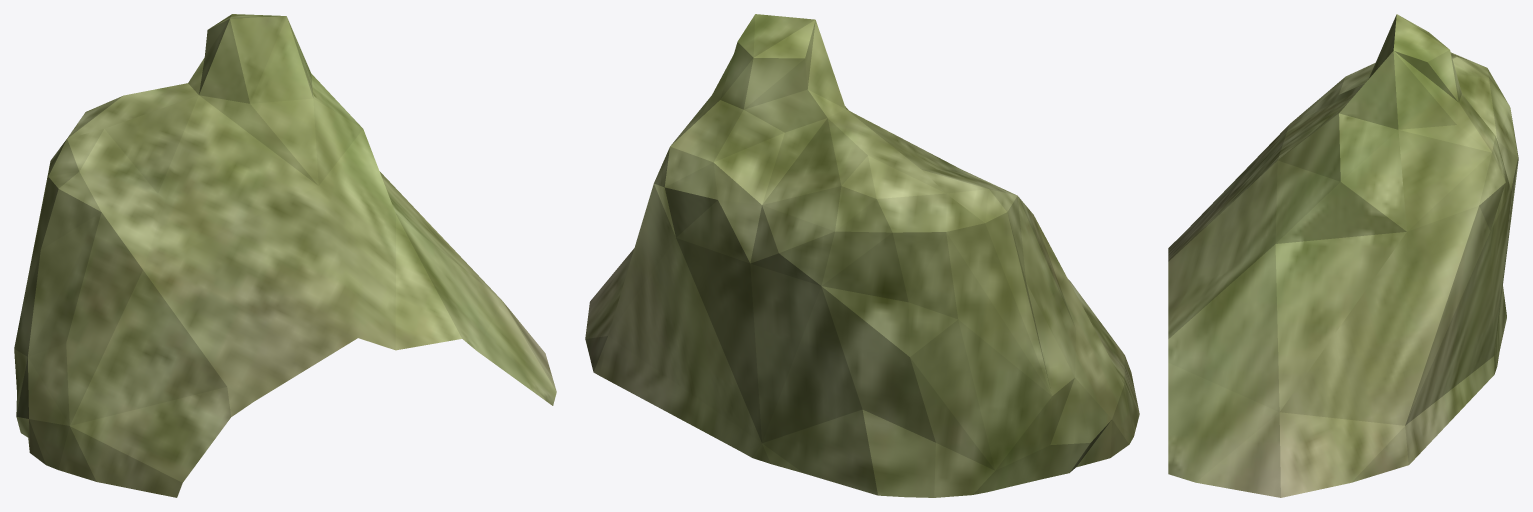
3 views of the same model, side by side, from view 1: azimuth 30°, elevation 25°; view 2: azimuth 150°, elevation 25°; view 3: azimuth 270°, elevation 25° (orthographic). The views are drawn at different scales.
Bounding box in the file's own units: 1.45 × 1.01 × 0.8954.
1 material, 1 textured.
